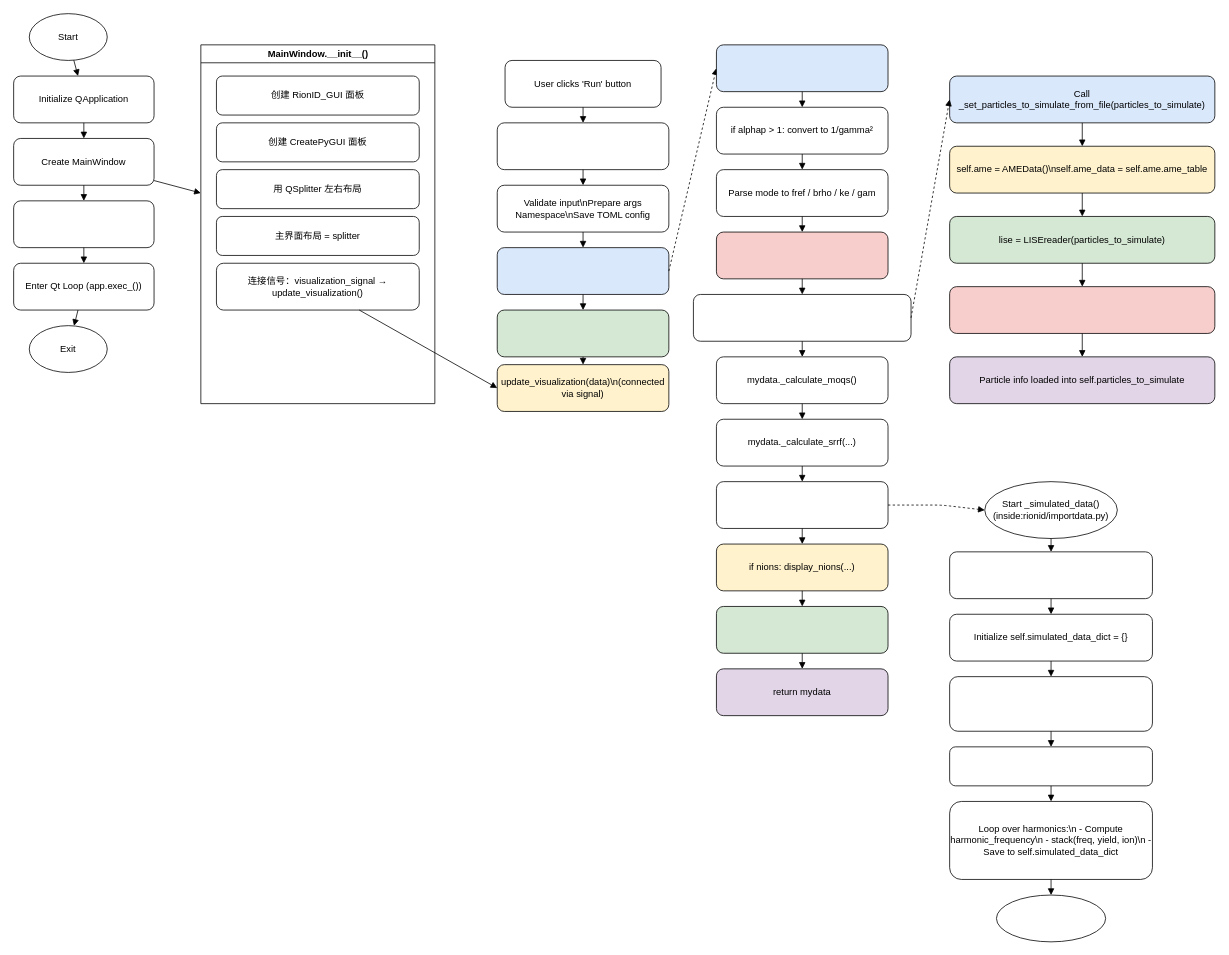
Some shapes in this 1229 by 955 pixel diagram are drawn without their labels. Here are the shapes that lost their labels. From the top down, the centre of each, then its label:
At pixel 802 68: "import_controller(...) (inside gui_controller.py)".
At pixel 582 146: "run_script() (inside parameter_gui.py)".
At pixel 83 224: "Show MainWindow".
At pixel 582 270: "import_controller(**args)".
At pixel 802 255: "mydata = ImportData(...)".
At pixel 802 317: "mydata._set_particles_to_simulate_from_file(filep)".
At pixel 1082 309: "self.particles_to_simulate = lise.get_info_all()".
At pixel 582 333: "emit visualization_signal(data)".
At pixel 802 504: "mydata._simulated_data(...)".
At pixel 1050 575: "Loop over harmonics:\nCalculate brho or use input brho".
At pixel 802 629: "save_simulation_results(...)".
At pixel 1050 703: "Set self.yield_data:\n - [1,1,...] if particles=True\n - From LISE otherwise".
At pixel 1050 766: "self.nuclei_names = list of ion names".
At pixel 1051 918: "End _simulated_data()".
